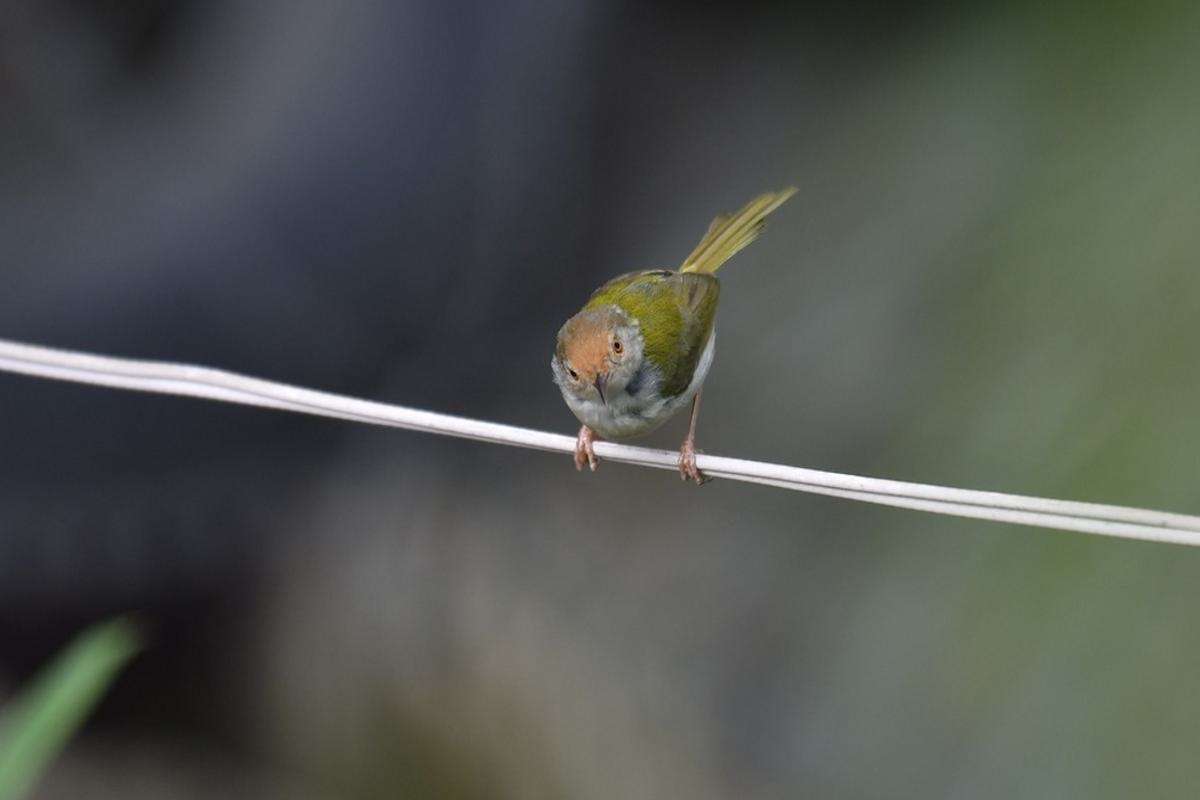tailorbird: (531, 166, 805, 497)
